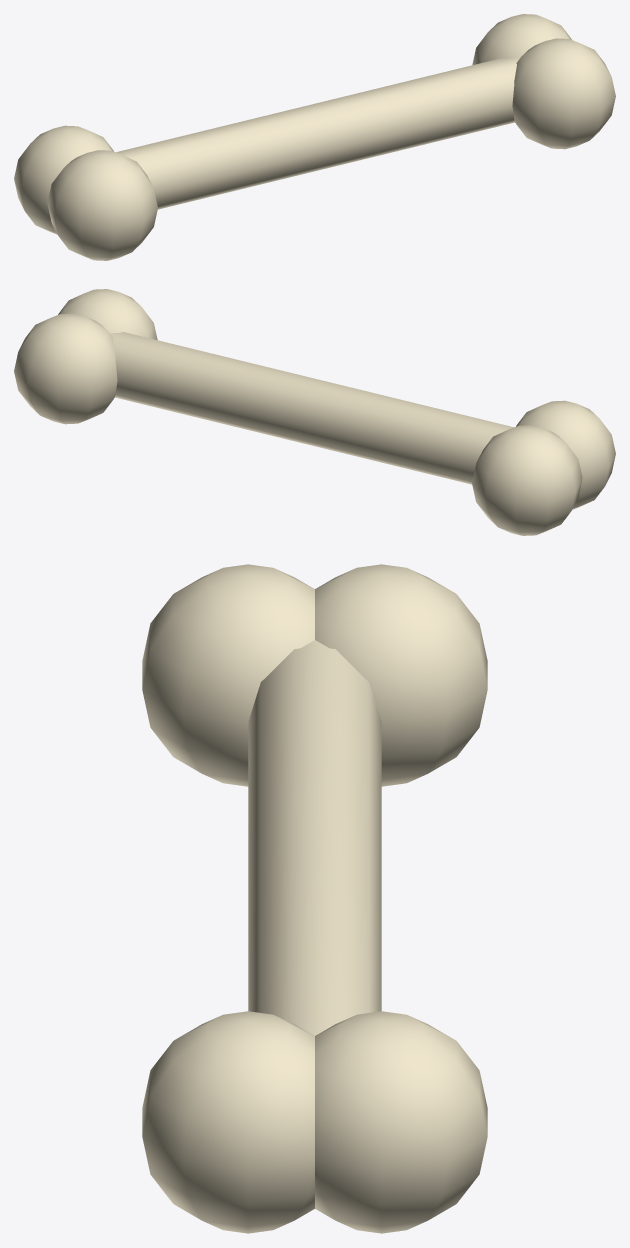
File: old_bone.glb
The picture shows the model from 3 angles, top to bottom: view 1: azimuth 30°, elevation 25°; view 2: azimuth 150°, elevation 25°; view 3: azimuth 270°, elevation 25°; orthographic projection. The views are drawn at different scales.
Parts seen in each view (by area): view 1: end (×2), old_bone; view 2: end (×2), old_bone; view 3: end (×2), old_bone.
Boxes of the visible parts, left/top/right/bottom form: end (×2): left=14, top=14, right=615, bottom=260; old_bone: left=116, top=57, right=519, bottom=209; end (×2): left=14, top=289, right=615, bottom=535; old_bone: left=110, top=332, right=513, bottom=484; end (×2): left=142, top=564, right=487, bottom=1233; old_bone: left=248, top=640, right=381, bottom=1035.
Size of the model in its own units: 0.23 by 0.04 by 0.062.
